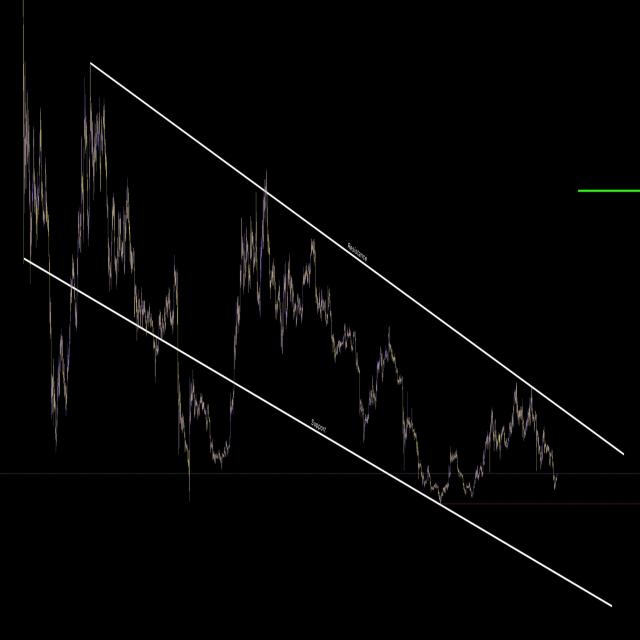Channel-down: (18, 20, 590, 581)
